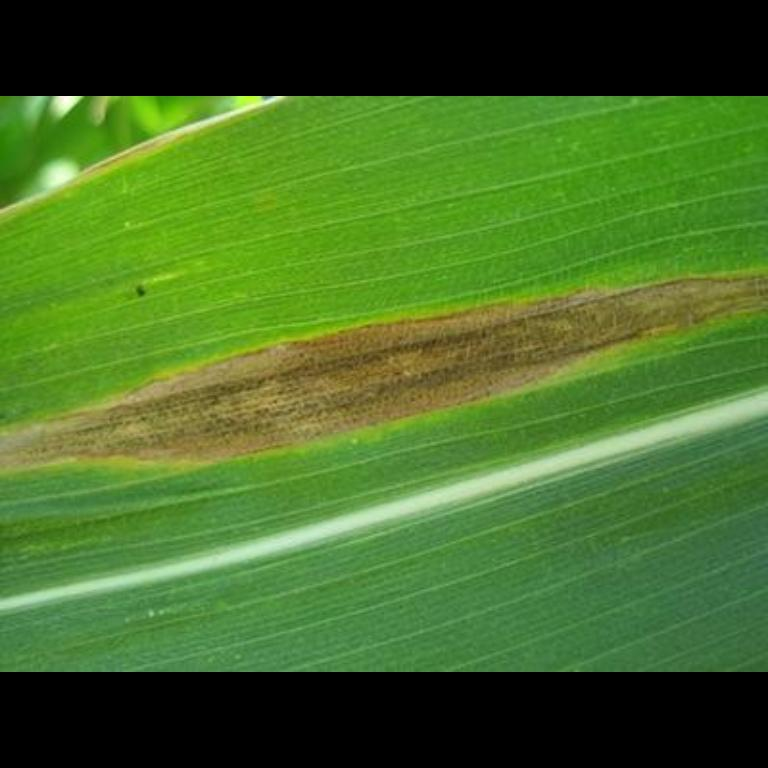blight: (21, 306, 740, 440)
